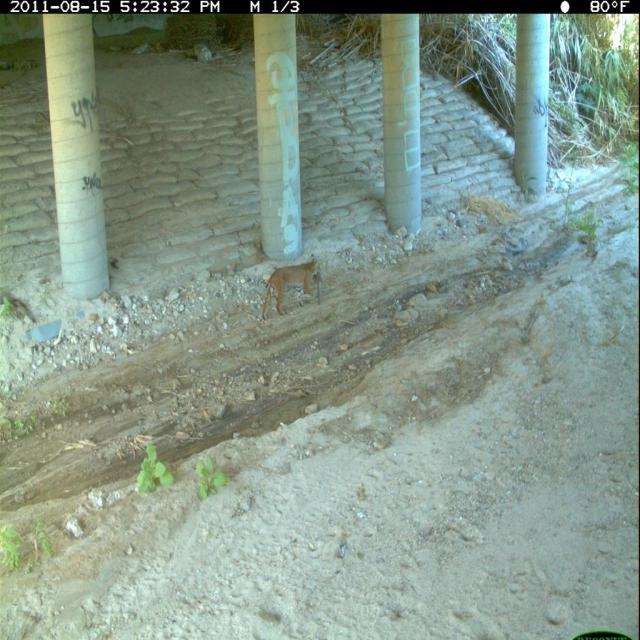bobcat: (260, 249, 325, 326)
rabbit: (313, 268, 326, 310)
